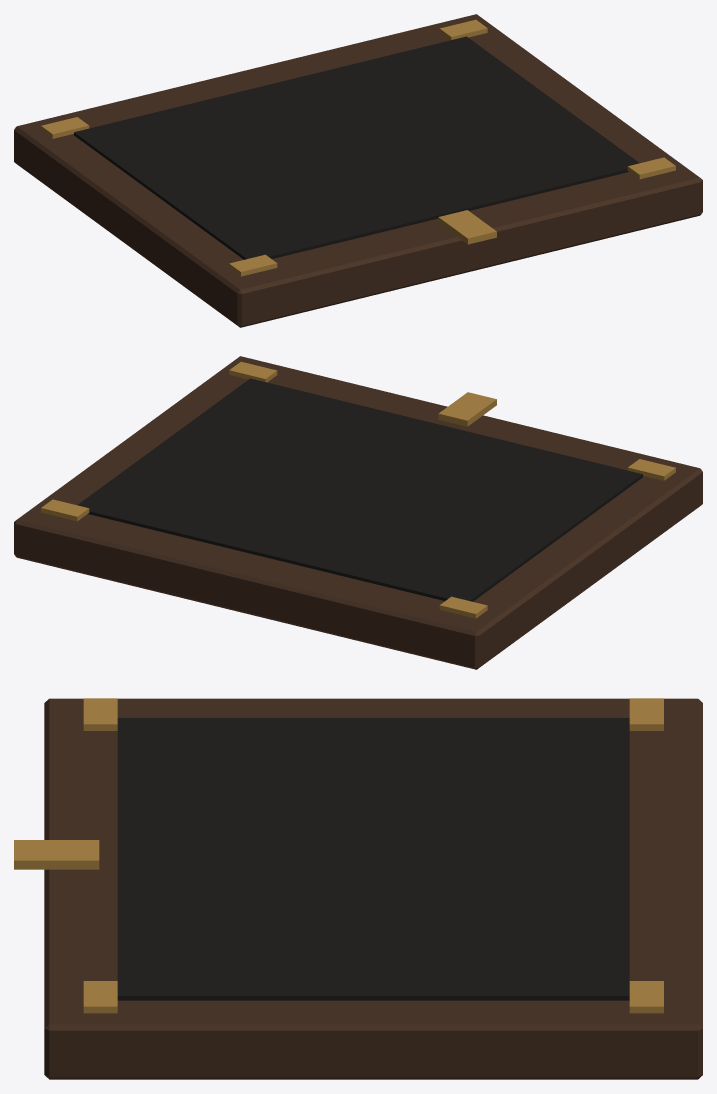
The model's file is dr_plate_holder.glb.
The picture shows the model from 3 angles, top to bottom: view 1: azimuth 30°, elevation 25°; view 2: azimuth 150°, elevation 25°; view 3: azimuth 270°, elevation 25°; orthographic projection. The views are drawn at different scales.
Visible parts, largest first — view 1: dr_plate_holder; view 2: dr_plate_holder; view 3: dr_plate_holder.
Boxes of the visible parts, box(x1,y1,x2,y2) form: dr_plate_holder: box(14, 14, 702, 327); dr_plate_holder: box(14, 356, 702, 669); dr_plate_holder: box(14, 698, 702, 1079).
Bounding box in the file's own units: 0.32 × 0.03 × 0.2825.
